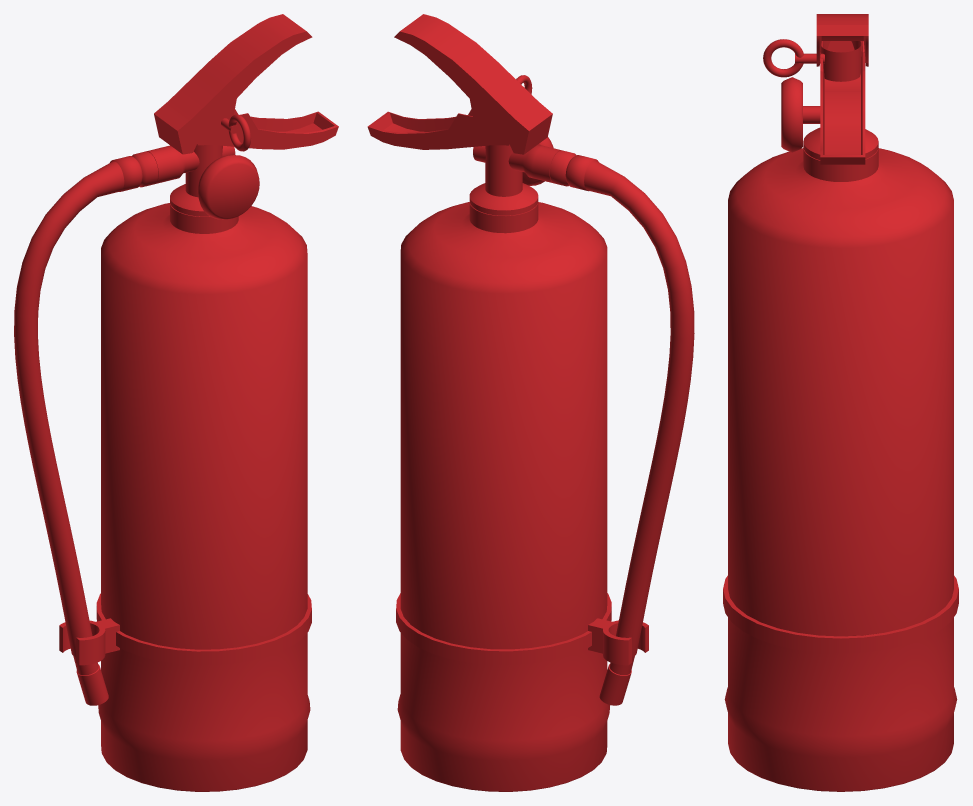
Rendered from Fire.fbx.
3 renders of one model, left to right at view 1: azimuth 30°, elevation 25°; view 2: azimuth 150°, elevation 25°; view 3: azimuth 270°, elevation 25°, orthographic. The views are drawn at different scales.
Parts seen in each view (by area): view 1: Cylinder; view 2: Cylinder; view 3: Cylinder.
Part boxes in pixels (x1,y1,x2,y2): Cylinder: (14,14,338,791); Cylinder: (367,14,694,791); Cylinder: (723,14,958,791).
Bounding box in the file's own units: 16.1 × 34.45 × 9.59.
